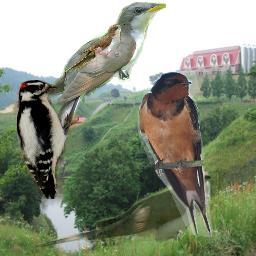Cuckoo: (38, 2, 166, 168), (29, 168, 211, 251), (64, 23, 125, 72)
Swallow: (138, 71, 212, 237)
Woodpecker: (17, 80, 79, 199)
